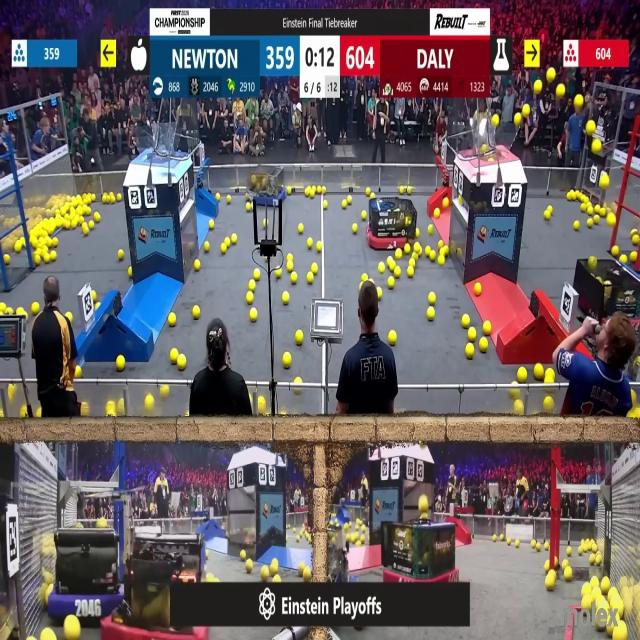ball_airborne: (420, 495, 429, 513), (600, 172, 609, 188), (587, 119, 596, 134), (593, 140, 602, 154), (573, 96, 582, 109), (606, 213, 615, 226), (557, 85, 565, 98), (534, 82, 542, 95), (546, 69, 554, 82), (515, 112, 523, 124), (481, 144, 489, 156), (523, 105, 530, 117), (492, 114, 499, 125)
ball_ground: (544, 573, 554, 590), (533, 363, 543, 378), (543, 396, 552, 412), (515, 399, 524, 415), (257, 397, 265, 414), (145, 395, 154, 410), (580, 595, 590, 608), (283, 352, 291, 368), (465, 344, 474, 358), (161, 385, 170, 399), (80, 404, 89, 418), (106, 404, 115, 418), (116, 355, 124, 370), (42, 630, 54, 640), (601, 580, 609, 595), (116, 402, 124, 417), (262, 566, 271, 579), (519, 367, 527, 381), (191, 306, 199, 320), (294, 332, 302, 346), (388, 332, 396, 346), (271, 561, 279, 575), (178, 354, 185, 369), (427, 308, 435, 321), (461, 315, 469, 328), (564, 568, 572, 581), (544, 371, 552, 384), (169, 313, 176, 327), (484, 321, 491, 335), (282, 292, 290, 304), (74, 365, 82, 377), (171, 350, 179, 362), (467, 328, 475, 340), (481, 339, 488, 352), (304, 567, 311, 580), (250, 310, 257, 322), (246, 291, 253, 303), (32, 303, 39, 315), (308, 273, 315, 285), (428, 292, 435, 304), (387, 256, 394, 268), (415, 244, 422, 256), (439, 255, 447, 265), (98, 520, 106, 530), (206, 572, 214, 582), (591, 576, 599, 586), (246, 560, 252, 573), (379, 264, 386, 275), (611, 246, 618, 257), (388, 278, 395, 289), (316, 241, 323, 252), (631, 251, 638, 262), (583, 585, 590, 596), (8, 385, 15, 396), (48, 238, 56, 247), (441, 247, 449, 256), (19, 409, 25, 421), (444, 200, 451, 210), (395, 249, 402, 259), (290, 273, 296, 284), (193, 261, 199, 272), (409, 268, 415, 279), (253, 270, 259, 281), (249, 280, 255, 291), (117, 249, 123, 260), (35, 254, 41, 265), (82, 223, 88, 234), (429, 250, 435, 261), (273, 574, 281, 582), (628, 411, 636, 419), (632, 236, 639, 245), (562, 559, 569, 568), (15, 308, 22, 317), (512, 389, 519, 398), (223, 238, 230, 247), (621, 253, 628, 262), (474, 284, 480, 294), (312, 265, 318, 275), (308, 240, 314, 250), (573, 220, 579, 230), (407, 244, 413, 254), (394, 268, 400, 278), (232, 236, 238, 246), (50, 251, 56, 261), (220, 244, 226, 254), (36, 410, 42, 420), (588, 218, 594, 228), (588, 206, 594, 216), (44, 253, 50, 263), (93, 290, 99, 300), (14, 242, 20, 252), (341, 202, 348, 210), (297, 223, 303, 232), (322, 201, 328, 210), (4, 255, 10, 264), (276, 270, 282, 279), (352, 223, 358, 232), (95, 213, 101, 222), (0, 304, 6, 313), (544, 211, 550, 220), (68, 313, 74, 322), (594, 215, 600, 224), (205, 242, 210, 252), (434, 208, 439, 218), (241, 552, 246, 562), (428, 224, 433, 234), (378, 288, 383, 298), (425, 246, 430, 256), (86, 208, 93, 215), (361, 274, 367, 282), (286, 264, 292, 272), (246, 204, 252, 212), (294, 377, 300, 385), (115, 192, 121, 200), (90, 220, 96, 228), (286, 253, 292, 261), (566, 546, 572, 554), (310, 190, 316, 198), (92, 192, 98, 200), (66, 220, 72, 228), (566, 193, 572, 201), (579, 205, 585, 213), (361, 211, 366, 220), (544, 560, 548, 571), (398, 186, 404, 193), (6, 308, 12, 315), (209, 220, 214, 228), (129, 268, 133, 278), (416, 230, 421, 238), (369, 191, 374, 199), (71, 220, 76, 228), (348, 195, 353, 203), (516, 539, 521, 547), (531, 540, 536, 548), (535, 542, 540, 550), (632, 392, 636, 402), (101, 196, 106, 204), (287, 187, 292, 195), (321, 186, 326, 194), (298, 562, 303, 570), (577, 546, 582, 554), (264, 219, 269, 227), (457, 248, 462, 256), (410, 259, 416, 265), (226, 194, 230, 203), (492, 535, 498, 541), (0, 412, 4, 421), (437, 239, 442, 246), (408, 187, 413, 194), (555, 558, 559, 566), (506, 536, 510, 544), (306, 188, 310, 196), (216, 192, 220, 199), (544, 542, 548, 549), (500, 534, 504, 541)
goal: (466, 122, 519, 160), (128, 130, 189, 160)
robot_blue: (51, 525, 120, 617), (583, 254, 640, 335), (246, 166, 286, 206)
robot_red: (110, 530, 206, 638), (379, 515, 456, 593), (366, 194, 416, 250)
